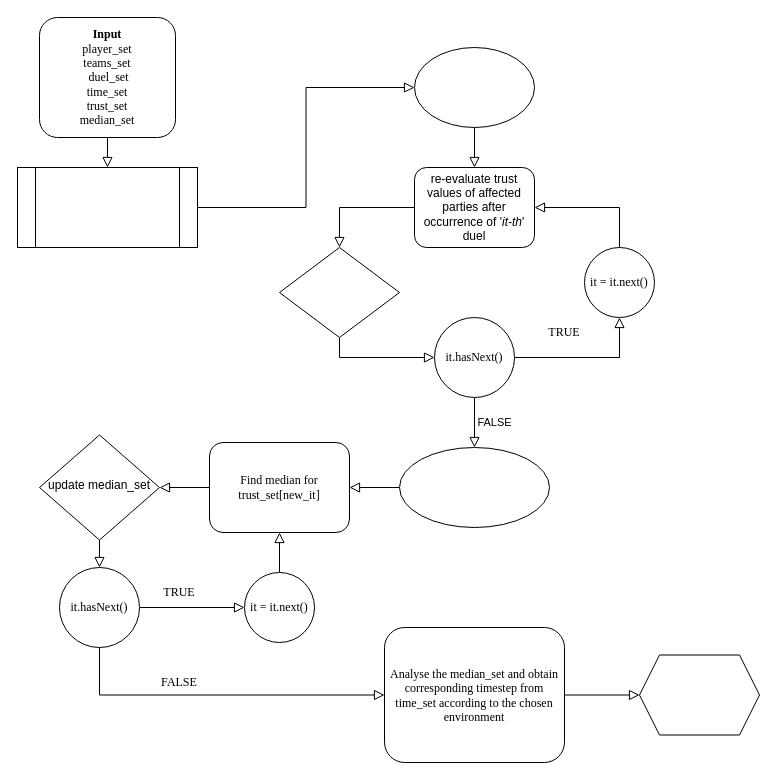
This 777x780 diagram has some shape labels left out. The box of each missing label's shape, as (x1, y1, x2, y2) in pixels:
Choose environment Antagonistic/Protagonistic: (16, 166, 198, 248)
it = duel_set.iterator(): (414, 46, 534, 128)
new_it = trust_set.iterator(): (398, 446, 550, 528)
Predict/Output the required timestep: (638, 654, 760, 735)
update trust_set: (278, 246, 400, 338)
